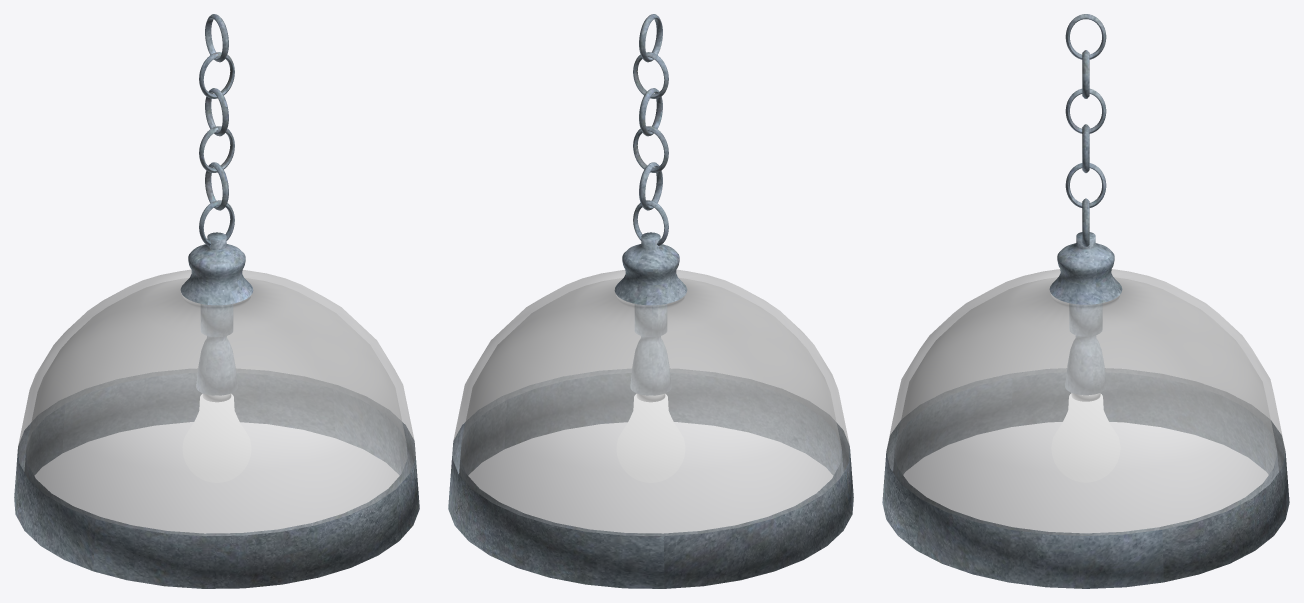
The model's file is ceiling_light_with_chain.glb.
The picture shows the model from 3 angles, left to right: view 1: azimuth 30°, elevation 25°; view 2: azimuth 150°, elevation 25°; view 3: azimuth 270°, elevation 25°; orthographic projection.
Visible parts, largest first — view 1: Ceiling Light, Light Bulb; view 2: Ceiling Light, Light Bulb; view 3: Ceiling Light, Light Bulb.
Boxes of the visible parts, x1,y1,x2,y2 form: Ceiling Light: (14,14,419,588); Light Bulb: (182,394,251,482); Ceiling Light: (448,14,853,588); Light Bulb: (616,394,685,482); Ceiling Light: (882,14,1289,588); Light Bulb: (1051,393,1120,482).
Bounding box in the file's own units: 6.94 × 9.2 × 6.94.
Materials: 5 (1 with a texture image).
